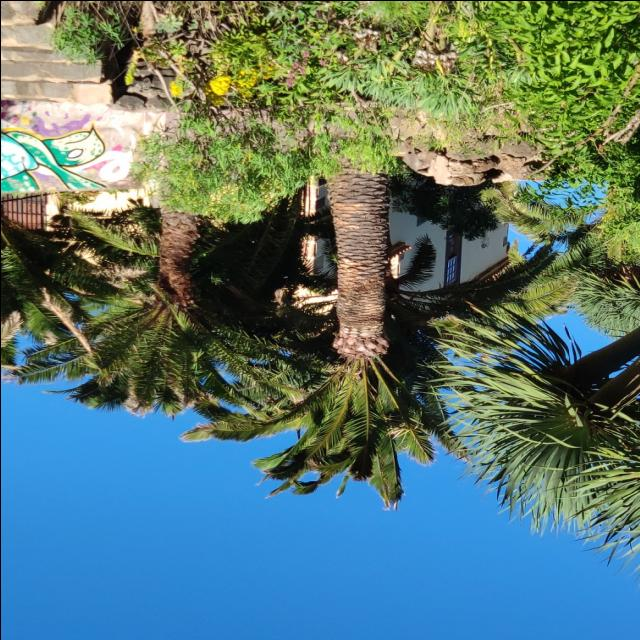Palm-Trees: (203, 152, 461, 514), (14, 200, 276, 420)
